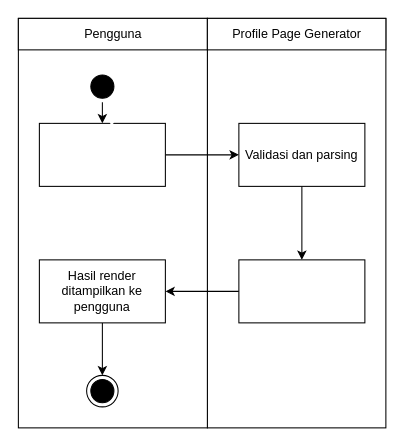
This 404x446 diagram has some shape labels left out. The shapes that lost their labels are listed below. From the top down, each one's box as (x1, y1, x2, y2) in pixels, then its label:
(38, 122, 165, 186): Pengguna mengubah file config.js
(238, 259, 365, 323): AngularJS melakukan rendering
